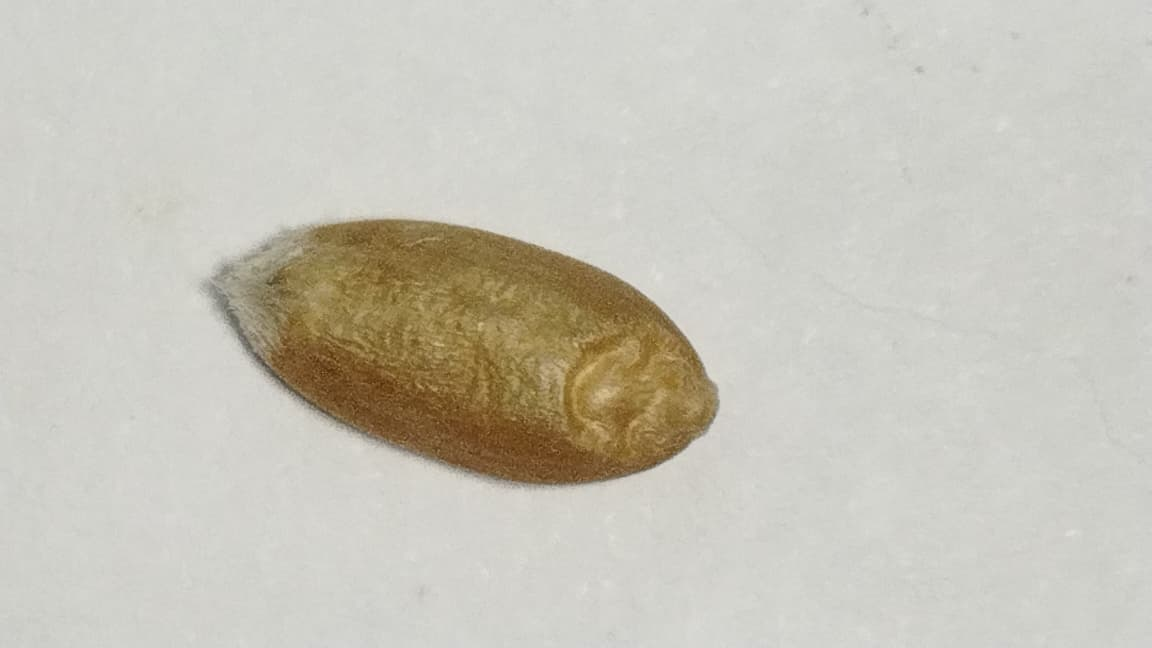healthy: (263, 220, 713, 479)
